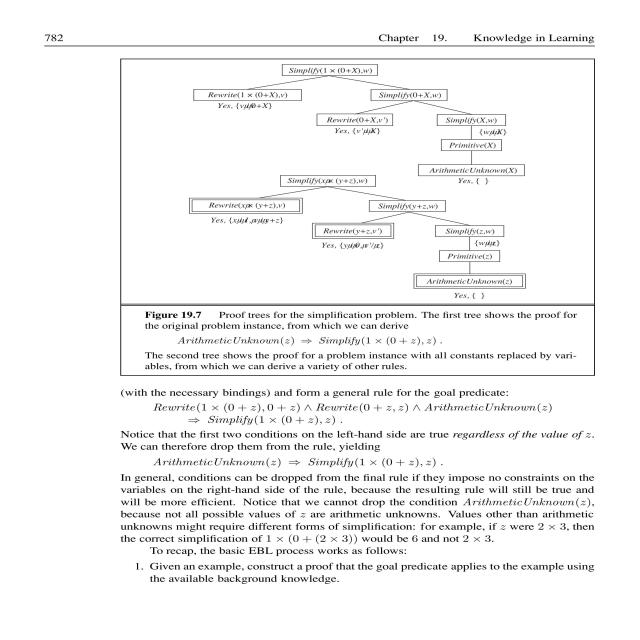diagram: (112, 50, 640, 381)
